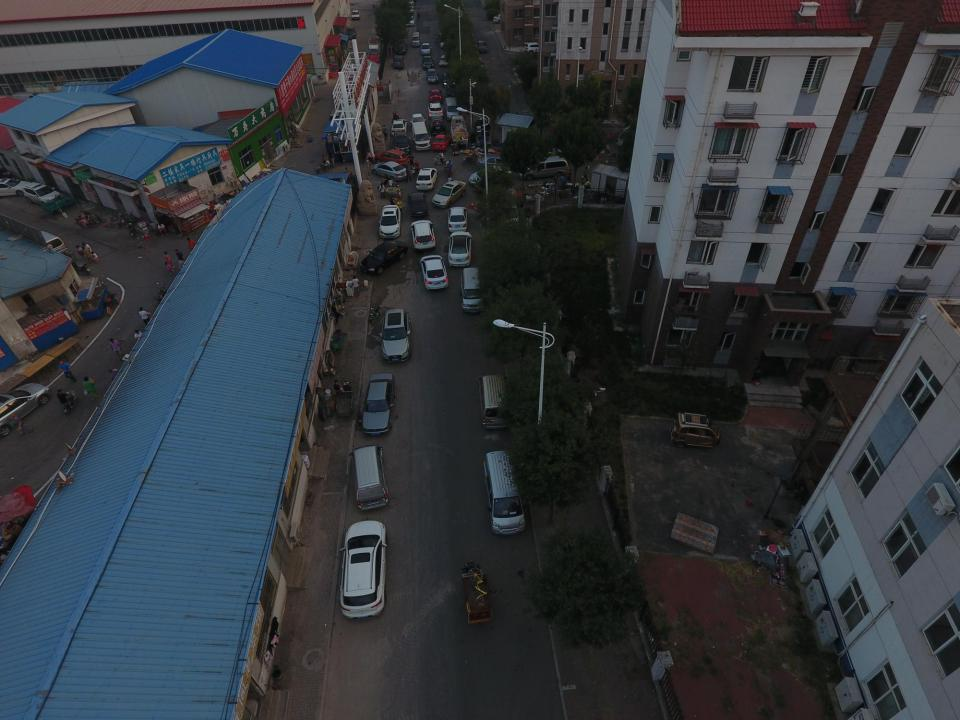car: (340, 520, 386, 620), (0, 381, 52, 434), (363, 373, 396, 434), (382, 308, 412, 362), (361, 239, 407, 274), (420, 254, 448, 289), (432, 180, 466, 208), (24, 182, 63, 205), (447, 231, 472, 266), (470, 164, 508, 186), (372, 159, 408, 181), (410, 221, 436, 250), (380, 205, 400, 239), (374, 147, 410, 165), (0, 178, 29, 196), (416, 166, 437, 190), (409, 191, 428, 217), (449, 205, 467, 231), (444, 96, 462, 118), (525, 40, 552, 54), (394, 130, 410, 152), (492, 12, 518, 24), (391, 118, 408, 134), (438, 32, 452, 50), (428, 100, 442, 118), (341, 25, 356, 40), (410, 112, 425, 127), (442, 71, 456, 87), (426, 68, 439, 84), (439, 51, 452, 67), (395, 39, 408, 54), (430, 88, 442, 103), (422, 55, 434, 69), (393, 53, 404, 68), (403, 14, 415, 27), (476, 39, 487, 53), (420, 42, 430, 56), (402, 0, 413, 12), (351, 9, 361, 20)
truck: (449, 114, 469, 143), (366, 31, 383, 57)
van: (484, 450, 525, 535), (352, 444, 389, 511), (479, 373, 515, 428), (12, 231, 67, 258), (461, 266, 487, 313), (518, 156, 569, 178), (479, 152, 515, 172), (412, 121, 430, 150), (411, 30, 421, 48)
